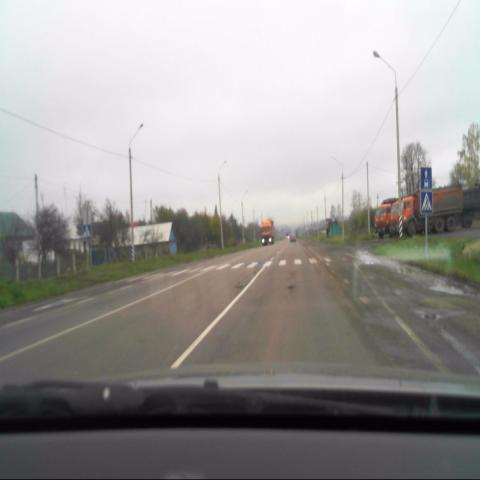5_14: (419, 168, 432, 189)
